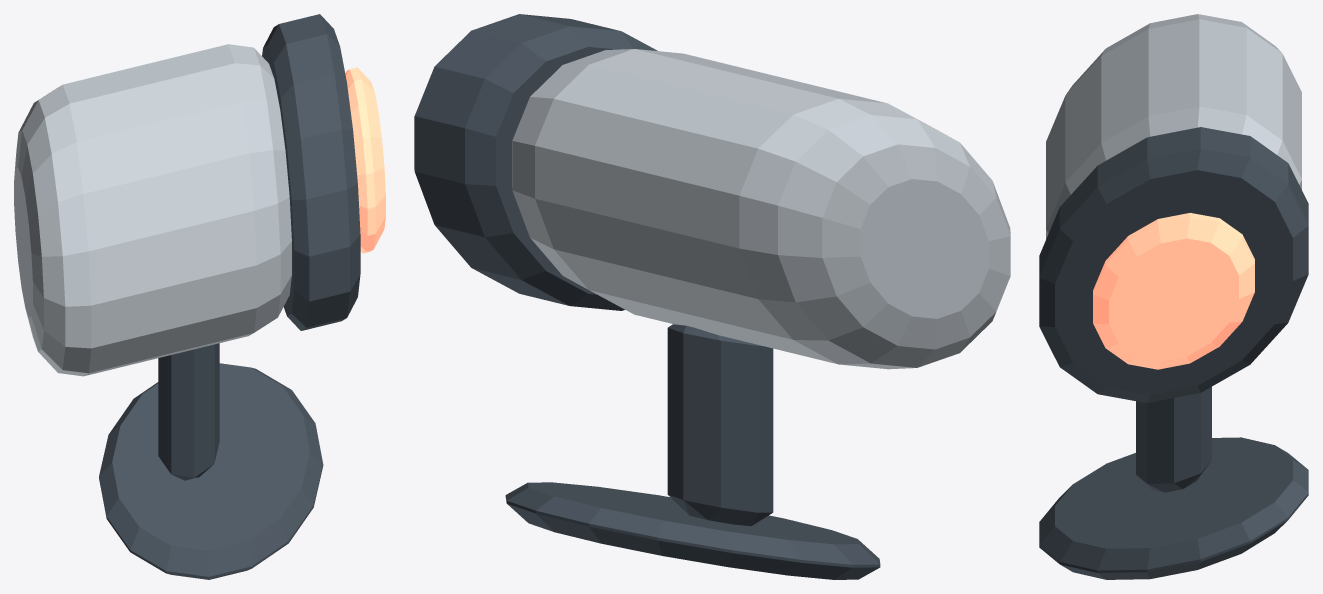
Rendered from Laser_Right.gltf.
3 views of the same model, side by side, from view 1: azimuth 30°, elevation 25°; view 2: azimuth 150°, elevation 25°; view 3: azimuth 270°, elevation 25° (orthographic). The views are drawn at different scales.
Visible parts, largest first — view 1: Laser_Right_baked; view 2: Laser_Right_baked; view 3: Laser_Right_baked.
Boxes of the visible parts, x1,y1,x2,y2 form: Laser_Right_baked: (14,14,385,579); Laser_Right_baked: (414,14,1010,579); Laser_Right_baked: (1039,14,1308,579).
Size of the model in its own units: 0.7224 by 0.781 by 0.3923.
